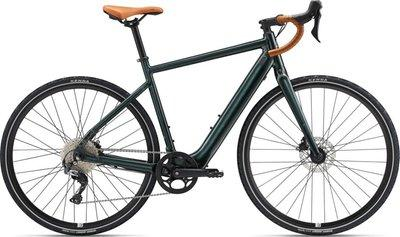bicycle: (1, 1, 400, 235)
